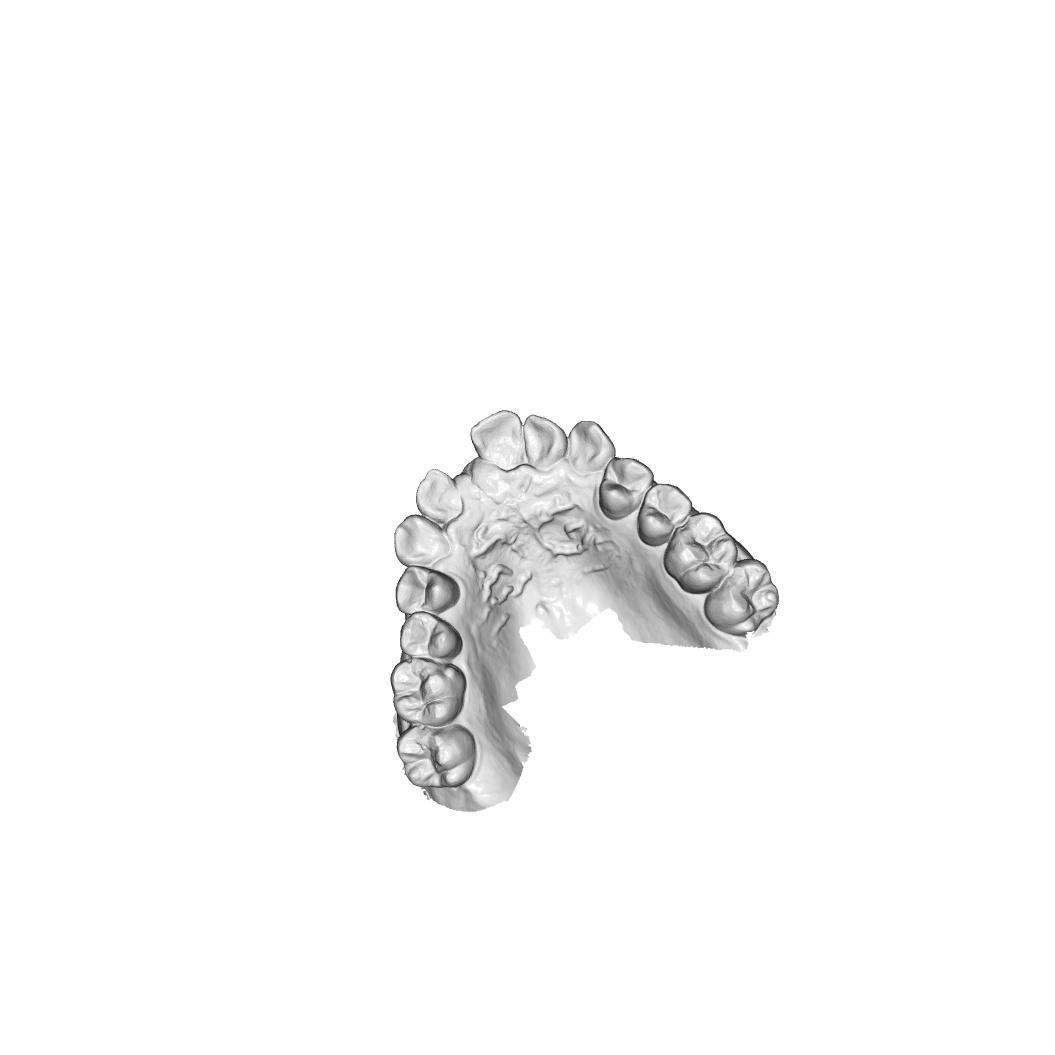canine: (393, 513, 452, 569), (567, 419, 617, 474)
incisor: (469, 409, 524, 473), (415, 468, 464, 525), (522, 413, 569, 472)
molar: (662, 511, 739, 595), (703, 557, 781, 638), (389, 657, 467, 727), (395, 723, 477, 789)
premolar: (597, 456, 656, 522), (635, 482, 693, 548), (394, 564, 461, 616), (399, 611, 464, 660)
